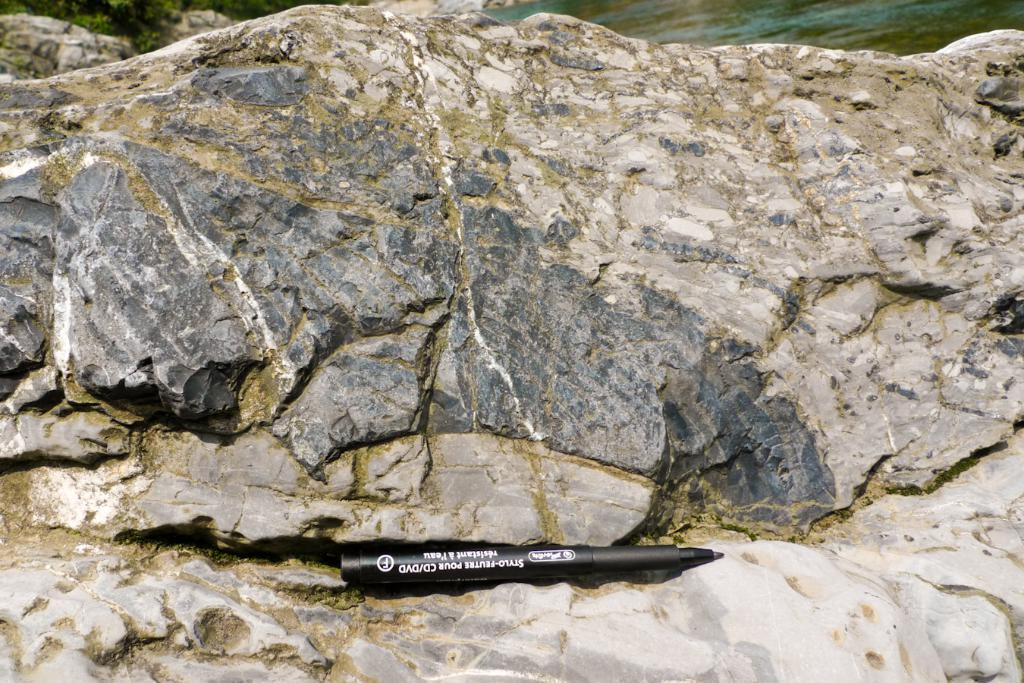pen: (339, 544, 727, 585)
